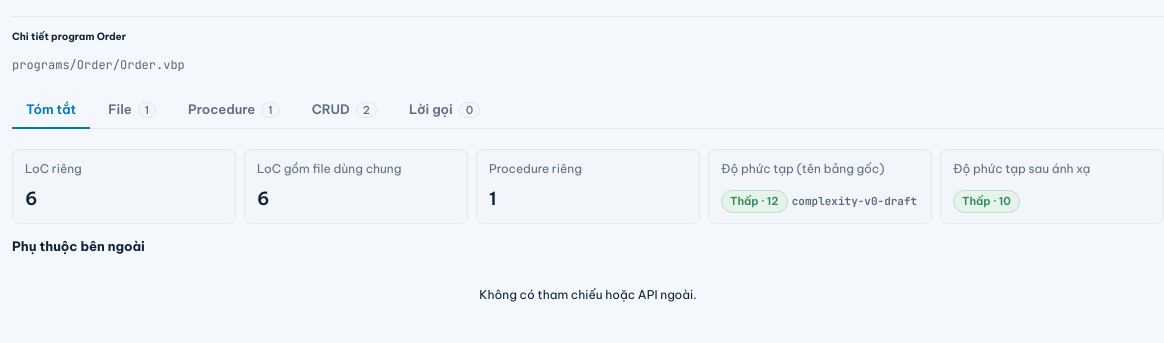
Test case: Program detail (F04) › F04-AC01 toggles raw/mapped CRUD without changing the raw metrics
Click the tab "CRUD2" at (344, 110), box [298,91,391,129]
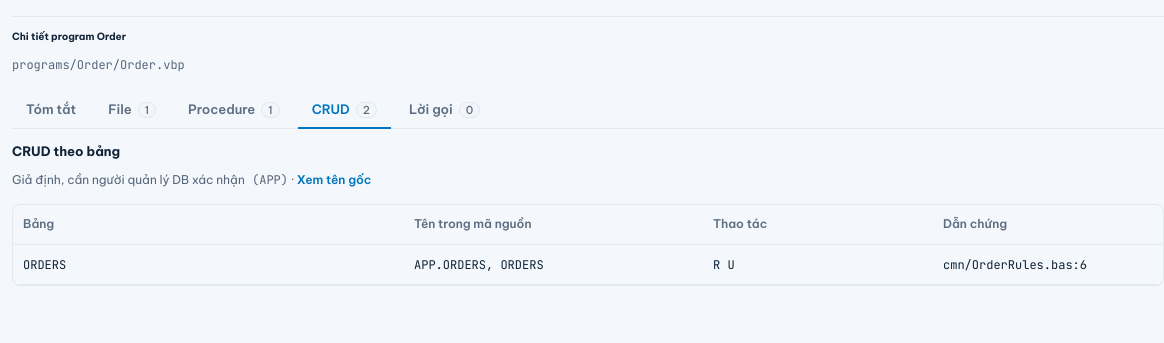
Result: the table with test id "crud-mapped" is shown at [13,205,1163,285]
Click the button "Xem tên gốc" at (334, 181), box [297,171,371,190]
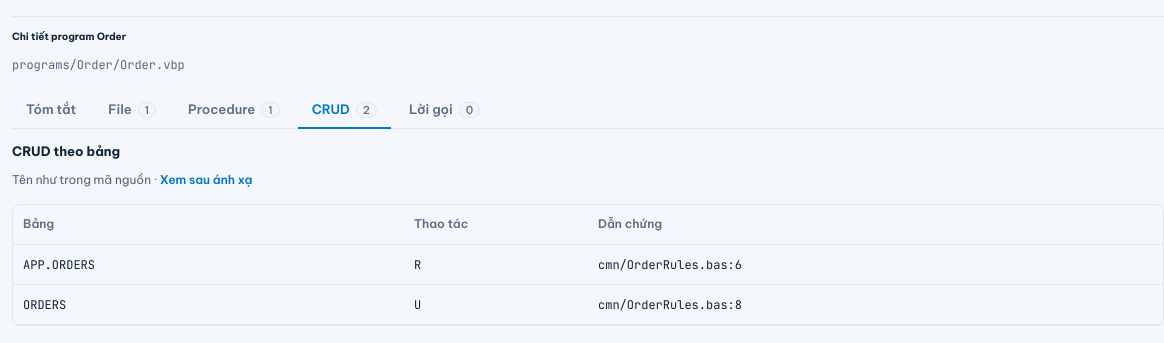
Result: the text "ORDERS" is shown at [23,297,66,313]
Result: the text "APP.ORDERS" is shown at [23,257,95,273]
Result: the element showing "Tên như trong mã nguồn · Xem sau ánh xạ" is shown at [12,171,252,190]
Click the button "Xem sau ánh xạ" at (206, 181), box [160,171,252,190]
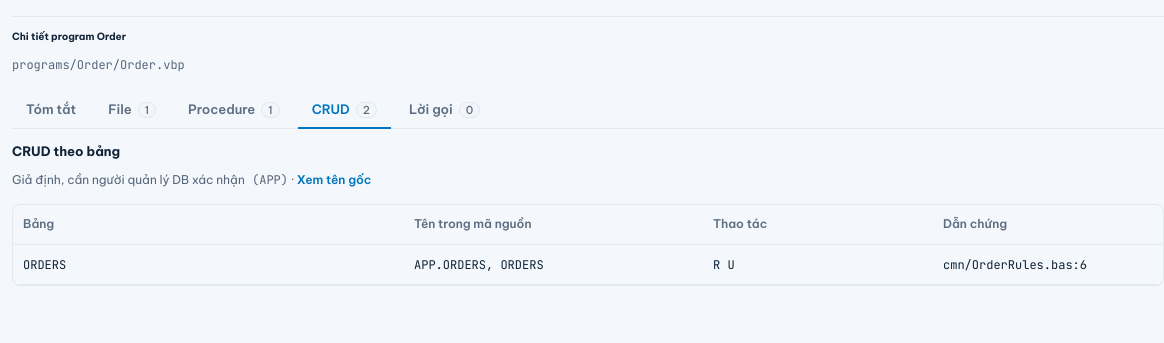
Result: the element showing "Giả định, cần người quản lý DB xác nhận (APP) · Xem tên gốc" is shown at [12,171,371,190]
Result: the text "ORDERS" shows "APP.ORDERS, ORDERS" at [414,257,544,273]
Result: the text "ORDERS" shows "R U" at [713,257,735,273]
Click the button "Xem tên gốc" at (334, 181), box [297,171,371,190]
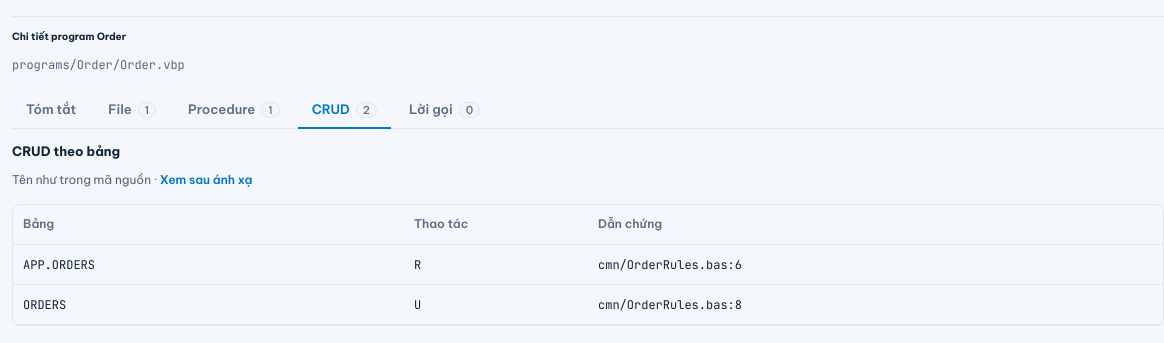
Result: the table with test id "crud-raw" is shown at [13,205,1163,325]
